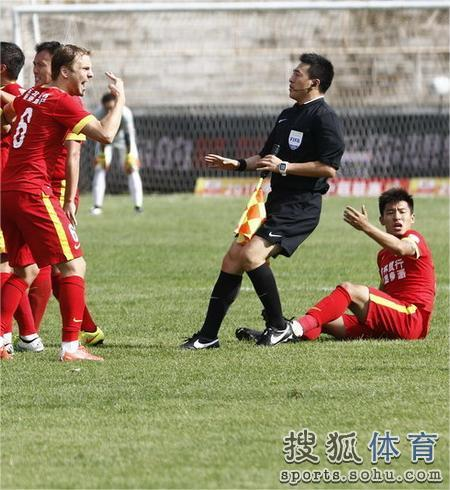bending: (270, 187, 439, 353)
up: (182, 45, 338, 342), (1, 38, 129, 367)
